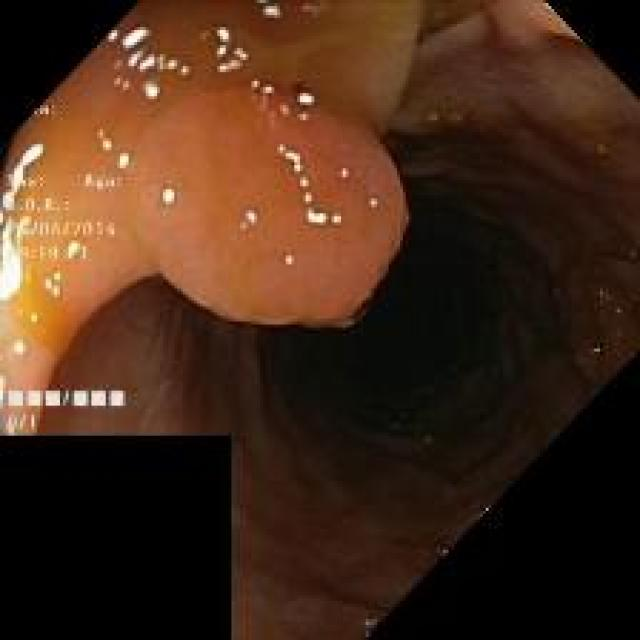Polyps: (128, 80, 408, 324)
